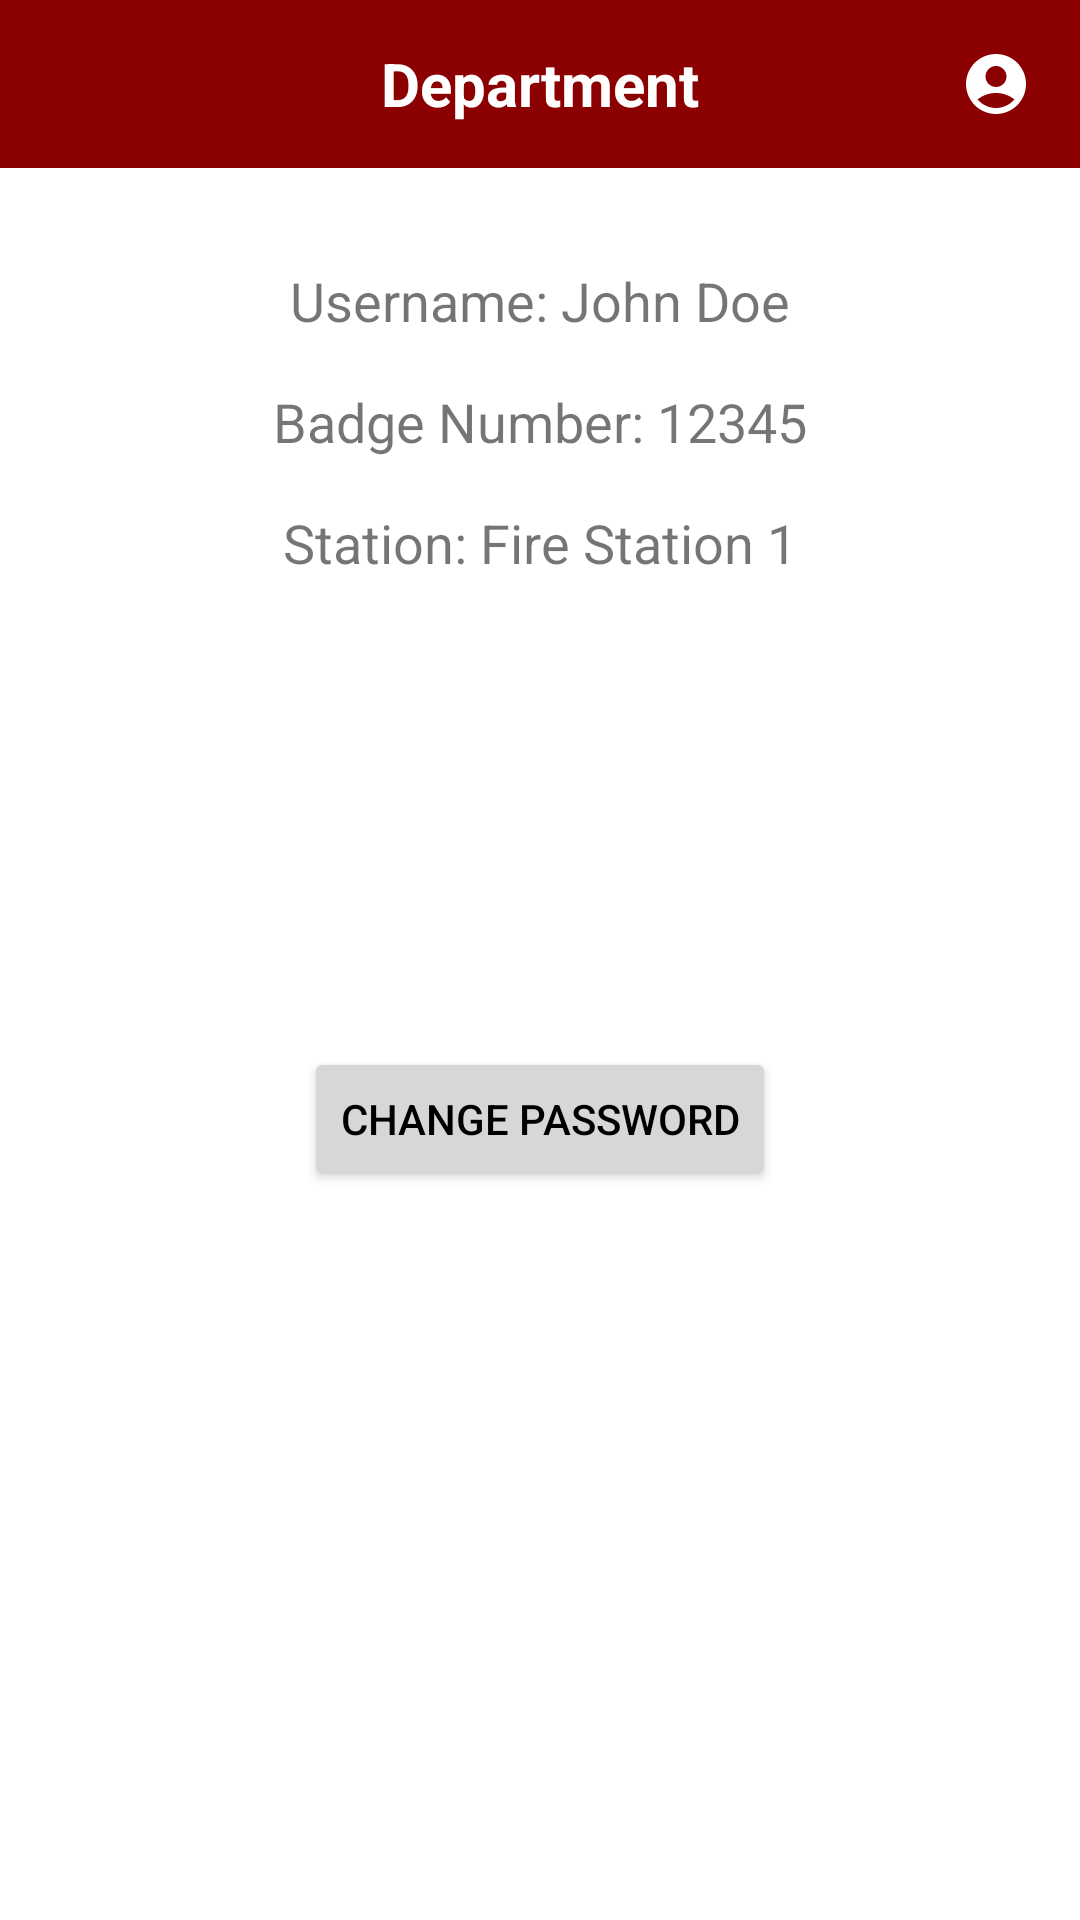

Icon click points for this 1080*1920 phone screenshot, format (x=x, y=y):
account circle: (x=996, y=84)
